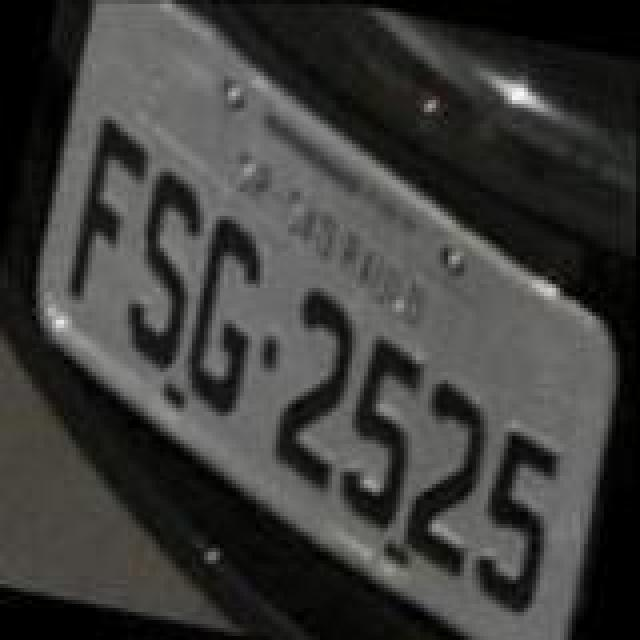2: (260, 278, 372, 494), (396, 370, 504, 578)
5: (330, 326, 438, 534), (464, 424, 572, 616)
F: (60, 108, 160, 308)
G: (176, 208, 280, 420)
S: (110, 158, 218, 370)
